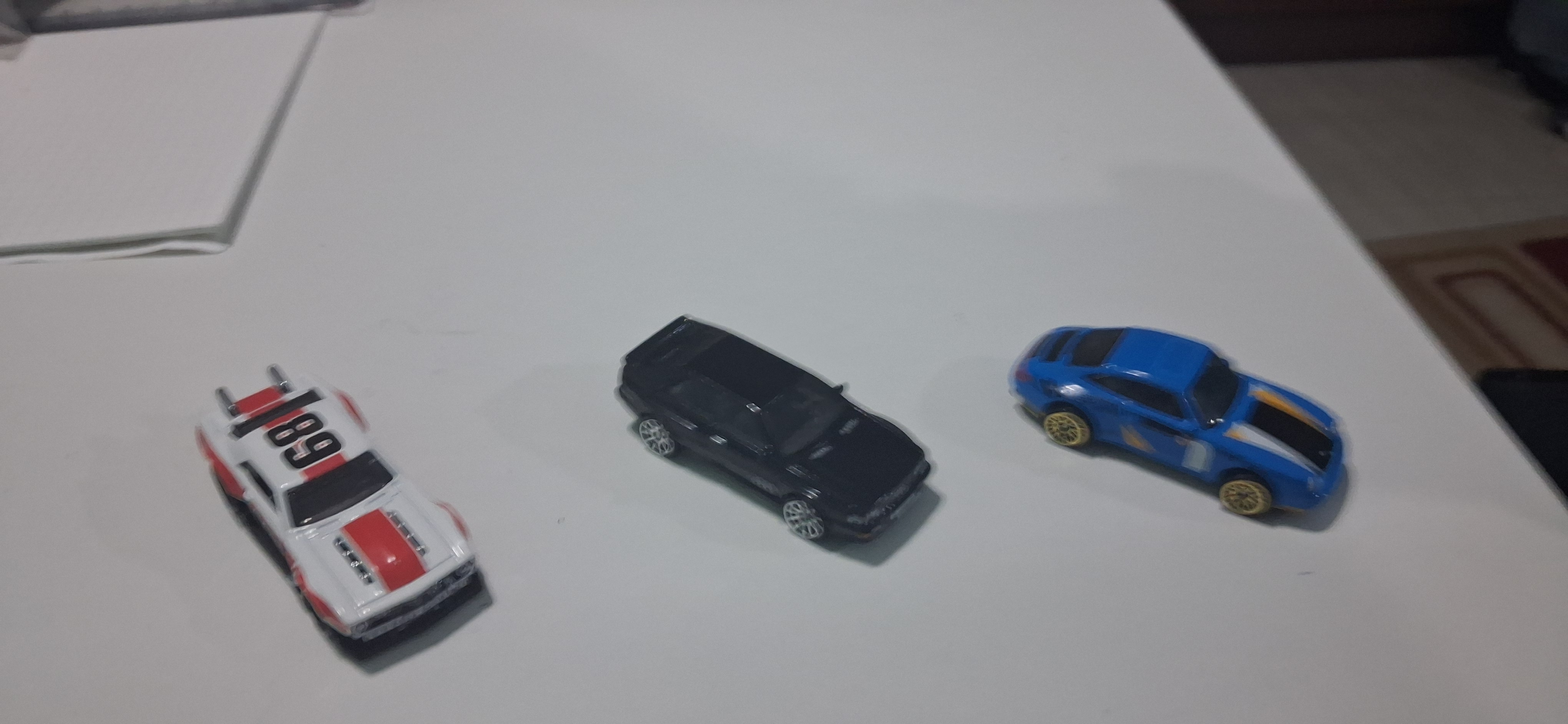Audi_Quattro: (572, 285, 956, 573)
Camaro: (156, 361, 523, 679)
Porsche_Carrera: (999, 266, 1401, 549)
